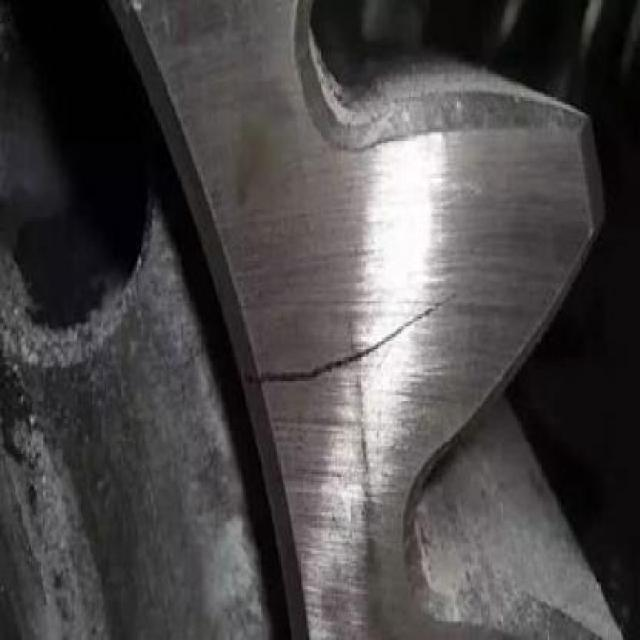crack: (243, 286, 460, 393)
